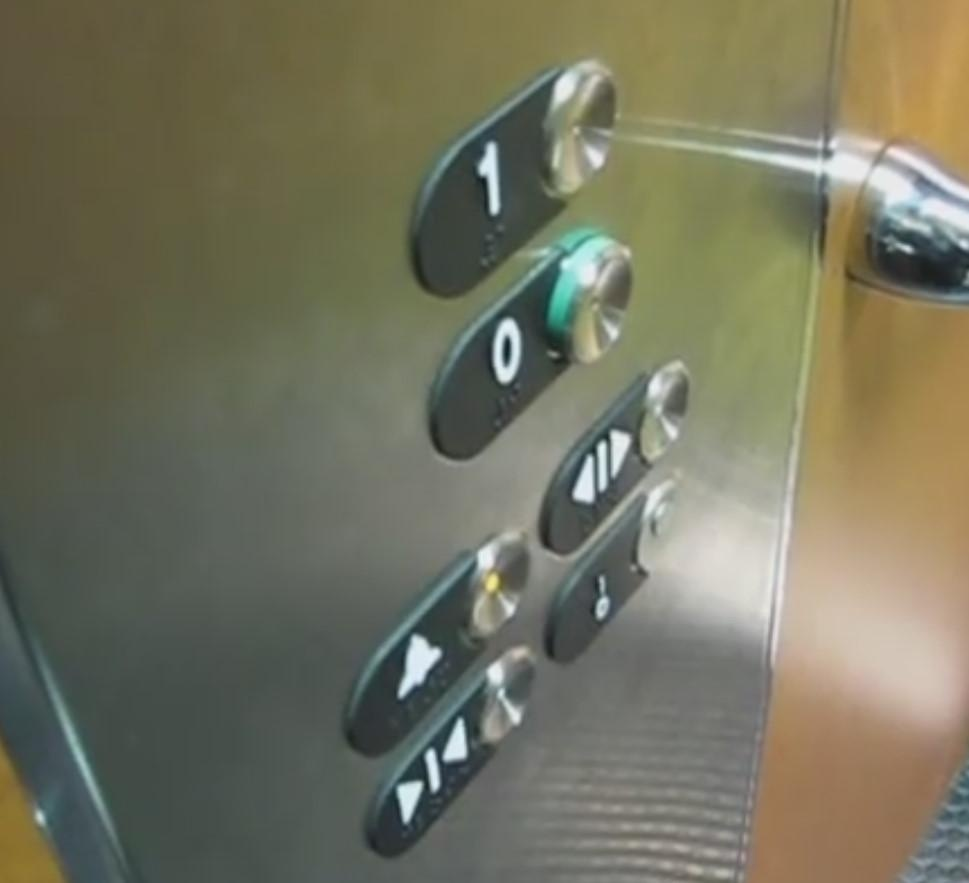0: (431, 226, 635, 464)
1: (408, 45, 621, 298)
alarm: (341, 515, 532, 748)
close: (370, 649, 542, 858)
key: (538, 480, 685, 665)
open: (543, 353, 693, 556)
